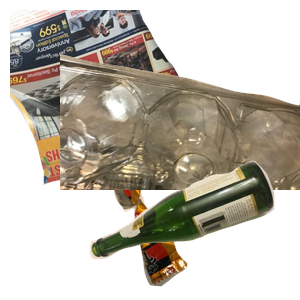glass: (87, 158, 300, 300)
paper: (10, 10, 230, 188)
plastic: (60, 52, 300, 232)
trash: (103, 147, 300, 300)
